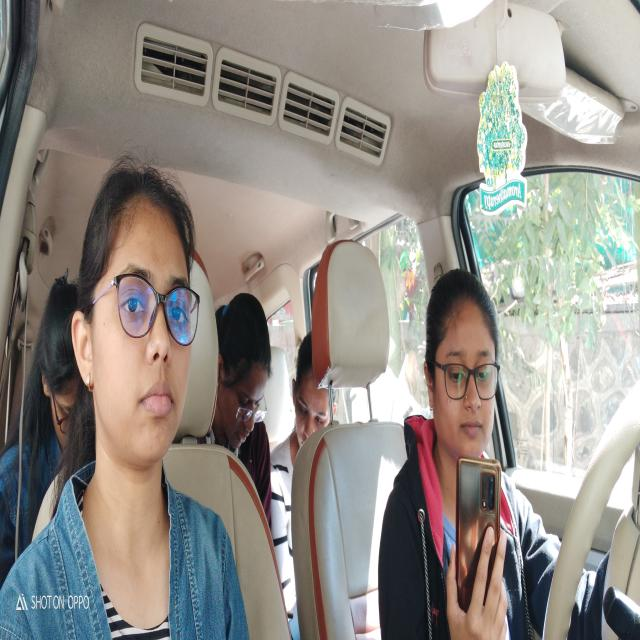mobile: (449, 438, 504, 640)
person: (73, 148, 206, 478), (422, 264, 516, 468), (222, 266, 273, 462), (38, 265, 81, 460), (286, 316, 334, 468)
